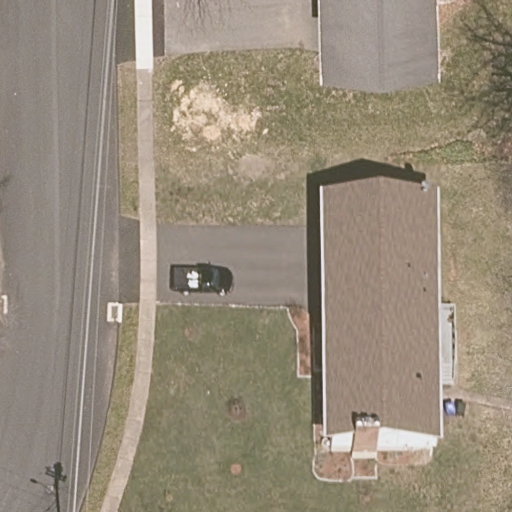DT: (32, 477, 71, 512)
